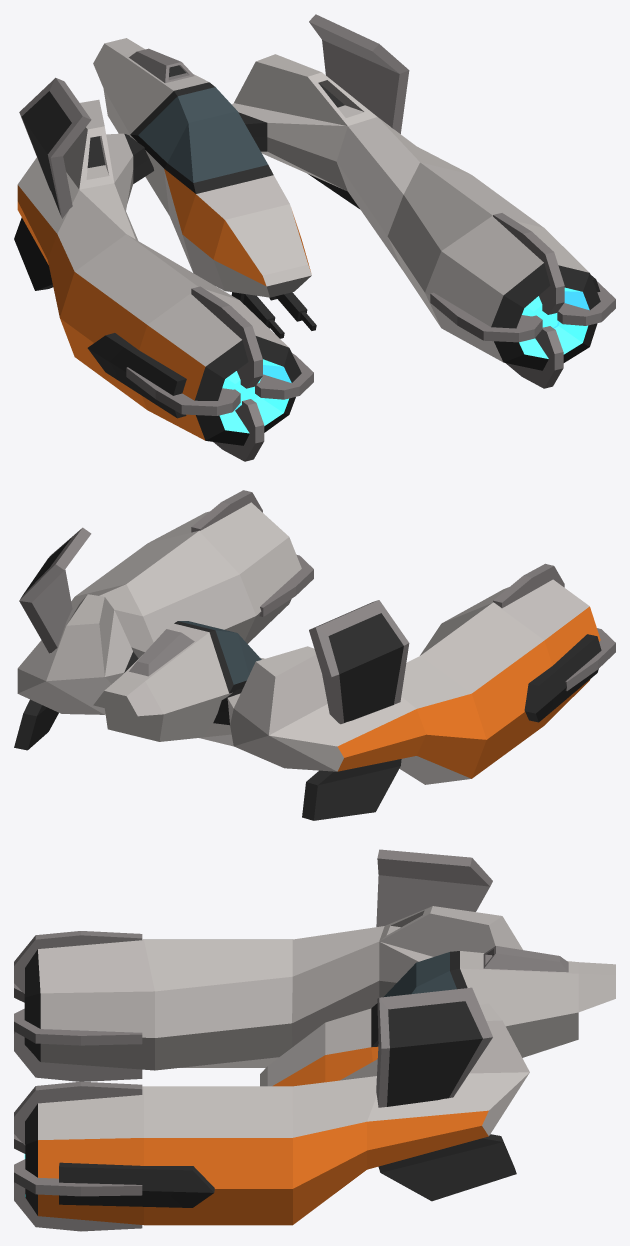
File: scifi_scifi-spaceship-raider.fbx
The picture shows the model from 3 angles, top to bottom: view 1: azimuth 30°, elevation 25°; view 2: azimuth 150°, elevation 25°; view 3: azimuth 270°, elevation 25°; orthographic projection. The views are drawn at different scales.
Visible parts, largest first — view 1: scifi_scifi_spaceship_raider; view 2: scifi_scifi_spaceship_raider; view 3: scifi_scifi_spaceship_raider.
Part boxes in pixels (box(x1,y1,x2,y2)): scifi_scifi_spaceship_raider: box(14, 14, 615, 461); scifi_scifi_spaceship_raider: box(14, 490, 615, 820); scifi_scifi_spaceship_raider: box(14, 849, 615, 1231).
Bounding box in the file's own units: 176 × 85.01 × 200.
